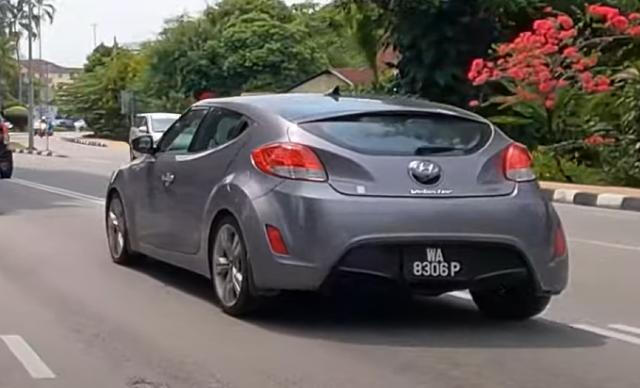License_Plate: (402, 245, 470, 285)
car: (105, 87, 570, 322)
